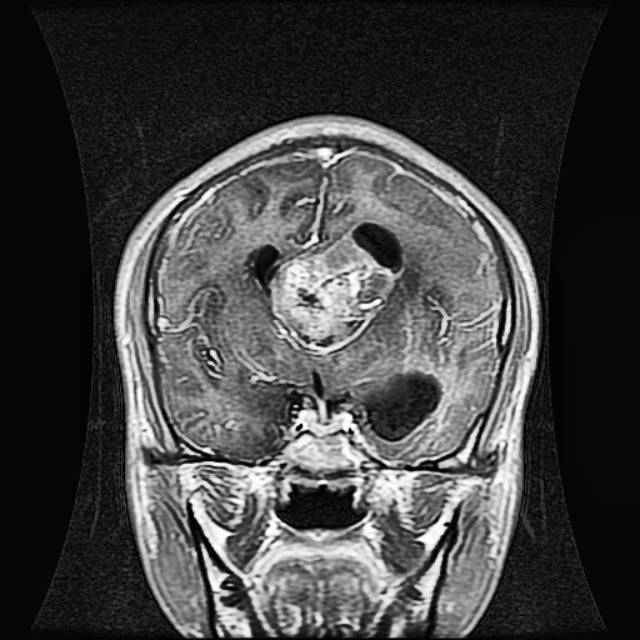Meningioma: (248, 220, 408, 353)
